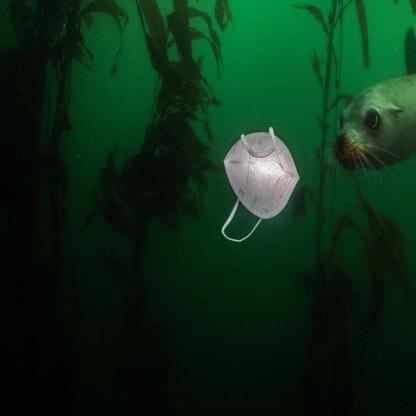Mask: (217, 128, 302, 246)
